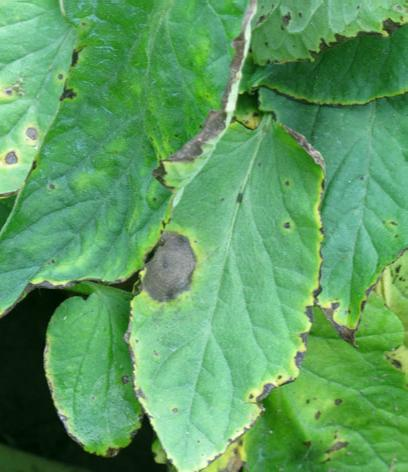Tomato Early blight leaf: (0, 0, 280, 322), (117, 114, 329, 459), (220, 323, 408, 472)
